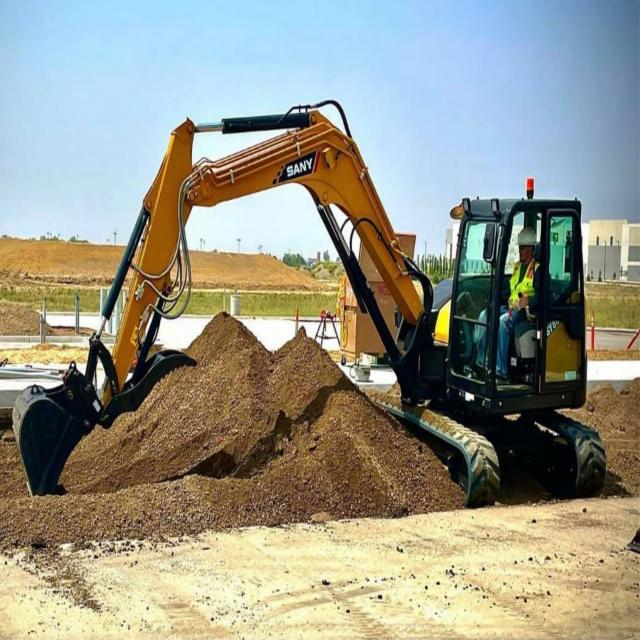C_E: (11, 100, 608, 508)
